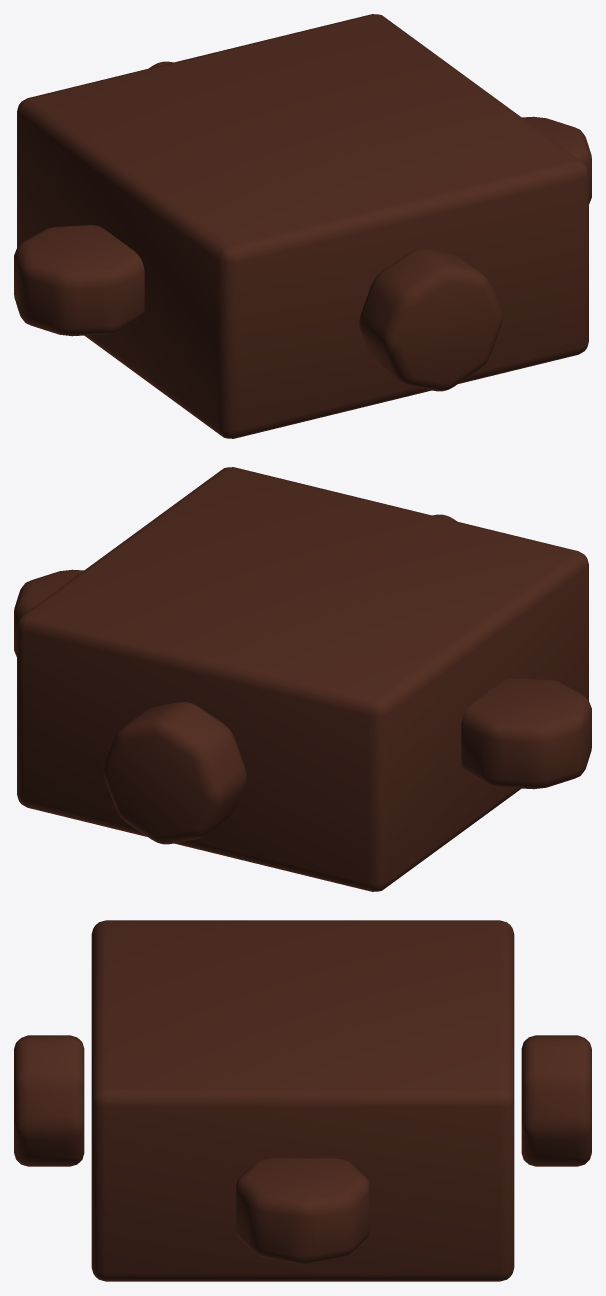
File: BB_PROP_JunctionBox.obj
3 renders of one model, top to bottom at view 1: azimuth 30°, elevation 25°; view 2: azimuth 150°, elevation 25°; view 3: azimuth 270°, elevation 25°, orthographic.
Visible parts, largest first — view 1: BB_PROP_JunctionBox; view 2: BB_PROP_JunctionBox; view 3: BB_PROP_JunctionBox.
Boxes of the visible parts, left/top/right/bottom form: BB_PROP_JunctionBox: left=14, top=14, right=591, bottom=438; BB_PROP_JunctionBox: left=14, top=467, right=591, bottom=891; BB_PROP_JunctionBox: left=14, top=920, right=591, bottom=1281.
Size of the model in its own units: 0.455 by 0.15 by 0.41.
